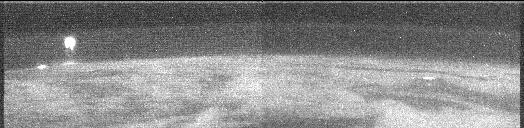positive: (60, 34, 78, 52)
